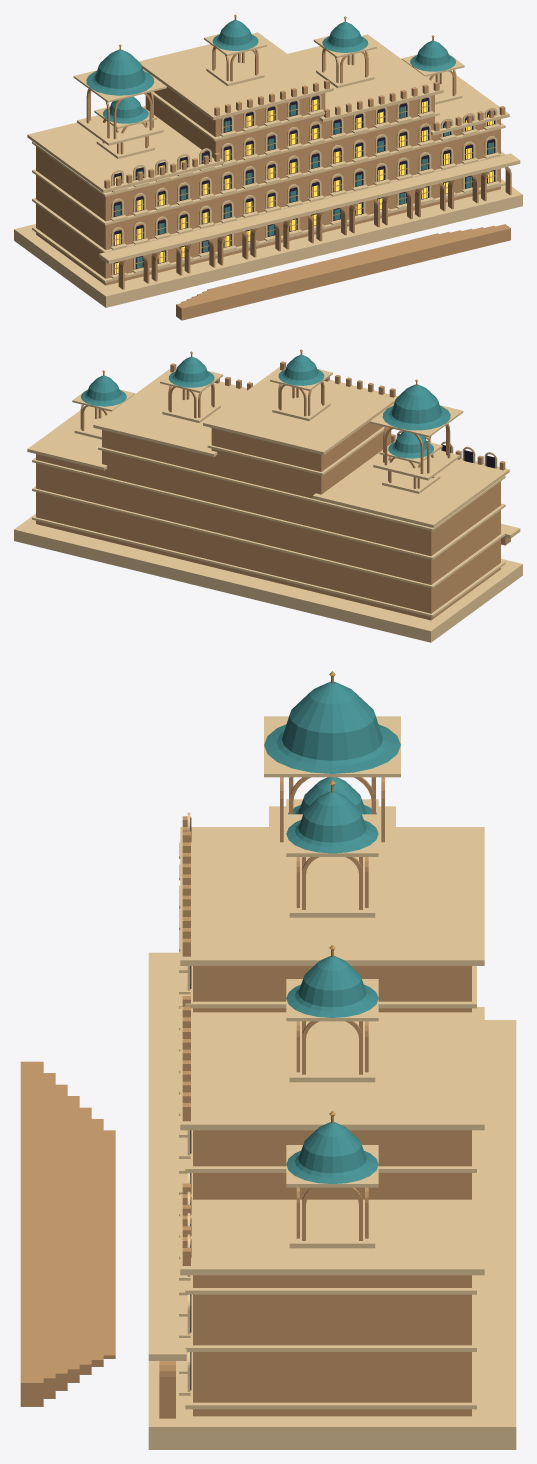
Rendered from desert_observatory.glb.
3 renders of one model, top to bottom at view 1: azimuth 30°, elevation 25°; view 2: azimuth 150°, elevation 25°; view 3: azimuth 270°, elevation 25°, orthographic. The views are drawn at different scales.
Parts seen in each view (by area): view 1: desert_observatory Carved warm limestone, desert_observatory Honey sandstone, desert_observatory Oxidised turquoise copper, desert_observatory Deep recessed arch, desert_observatory Amber glass, desert_observatory Brass finials; view 2: desert_observatory Honey sandstone, desert_observatory Carved warm limestone, desert_observatory Oxidised turquoise copper; view 3: desert_observatory Carved warm limestone, desert_observatory Honey sandstone, desert_observatory Oxidised turquoise copper.
Boxes of the visible parts, <box> form: desert_observatory Carved warm limestone: <box>14,32,522,307</box>; desert_observatory Honey sandstone: <box>36,47,511,320</box>; desert_observatory Oxidised turquoise copper: <box>86,20,493,268</box>; desert_observatory Deep recessed arch: <box>113,95,494,274</box>; desert_observatory Amber glass: <box>114,99,493,273</box>; desert_observatory Brass finials: <box>113,14,495,274</box>; desert_observatory Honey sandstone: <box>36,361,510,620</box>; desert_observatory Carved warm limestone: <box>14,367,522,642</box>; desert_observatory Oxidised turquoise copper: <box>81,355,450,458</box>; desert_observatory Carved warm limestone: <box>148,716,516,1449</box>; desert_observatory Honey sandstone: <box>20,777,471,1418</box>; desert_observatory Oxidised turquoise copper: <box>264,681,400,1183</box>.
Size of the model in its own units: 76 by 37.81 by 39.1.
